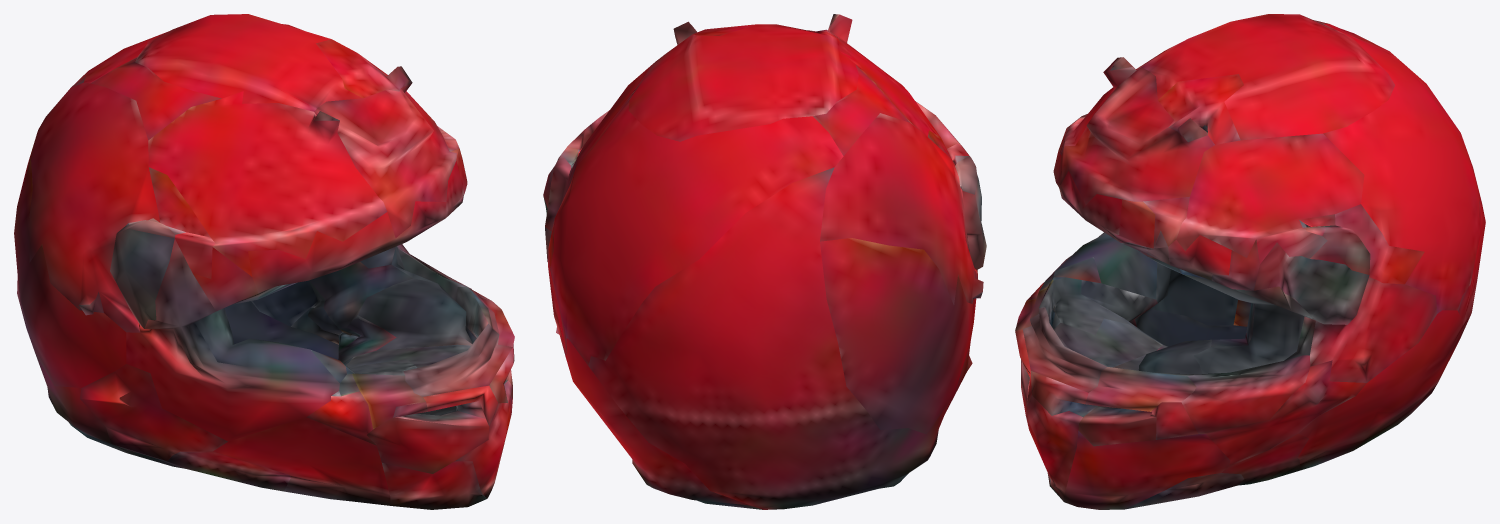
The picture shows the model from 3 angles, left to right: view 1: azimuth 30°, elevation 25°; view 2: azimuth 150°, elevation 25°; view 3: azimuth 270°, elevation 25°; orthographic projection. The views are drawn at different scales.
Size of the model in its own units: 0.457 by 0.4505 by 0.4828.
Materials: 1 (1 with a texture image).
